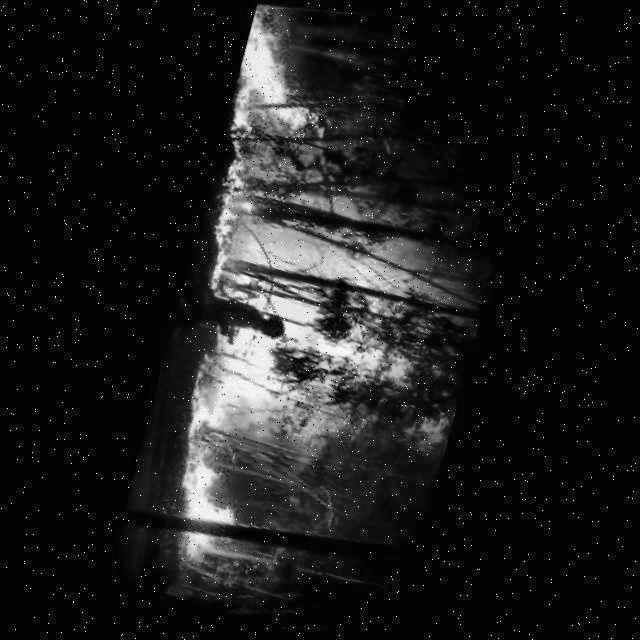Fire: (140, 243, 446, 612), (195, 11, 353, 229)
